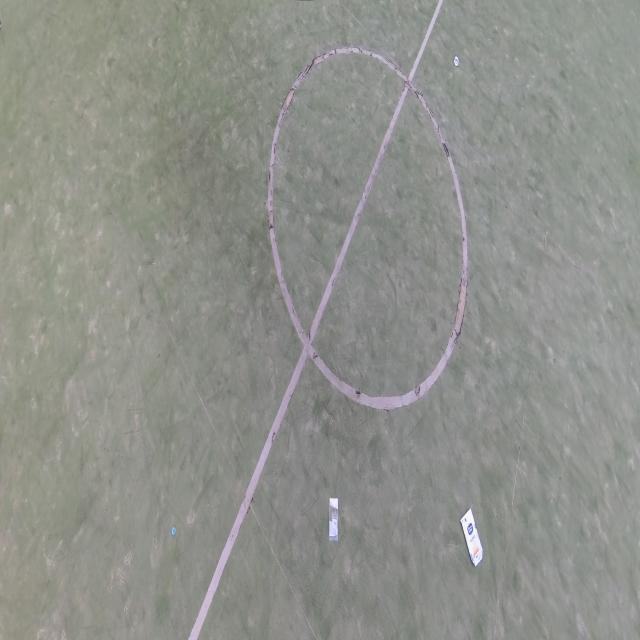rubbish: (460, 508, 483, 566), (328, 497, 338, 541), (453, 57, 459, 66), (172, 526, 176, 536)
